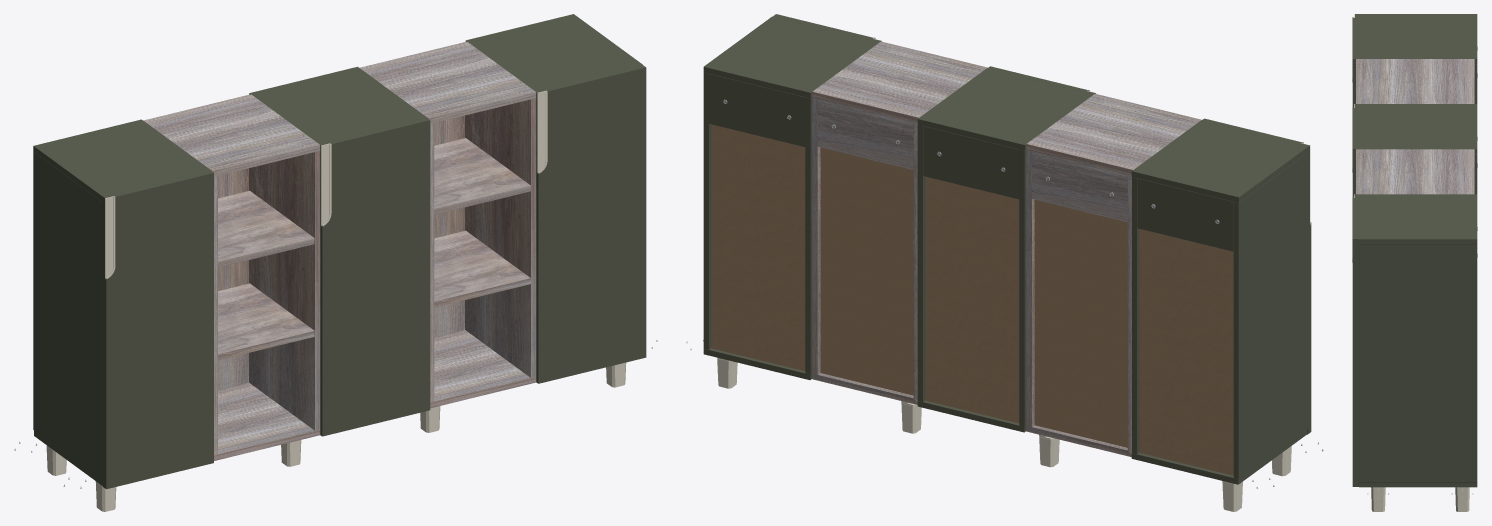
The picture shows the model from 3 angles, left to right: view 1: azimuth 30°, elevation 25°; view 2: azimuth 150°, elevation 25°; view 3: azimuth 270°, elevation 25°; orthographic projection. The views are drawn at different scales.
Parts seen in each view (by area): view 1: Cube.005, Cube.004, Cube.002, Cube.001, Cube.003, group_0.572; view 2: Cube.005, Cube.003, Cube.001, group_0.369, group_0.524, group_0.107, Cube.002, Cube.004, group_0.572; view 3: Cube.004, Cube.002, Cube.005, Cube.003, Cube.001, group_0.572.
Part boxes in pixels (x1,y1,x2,y2): Cube.005: (33,119,213,489); Cube.004: (465,14,646,383); Cube.002: (249,66,430,436); Cube.001: (143,94,320,460); Cube.003: (359,41,536,408); group_0.572: (46,90,626,511); Cube.005: (1131,118,1311,484); Cube.003: (812,41,987,404); Cube.001: (1026,93,1201,456); group_0.369: (1139,229,1233,475); group_0.524: (711,124,805,370); group_0.107: (925,176,1019,423); Cube.002: (917,66,1095,432); Cube.004: (703,14,881,379); group_0.572: (717,37,1311,511); Cube.004: (1352,194,1477,487); Cube.002: (1352,104,1477,197); Cube.005: (1352,14,1477,107); Cube.003: (1356,149,1474,194); Cube.001: (1356,59,1474,103); group_0.572: (1352,14,1469,511).
Bounding box in the file's own units: 1.93 × 1 × 0.4113.
14 materials, 3 textured.
